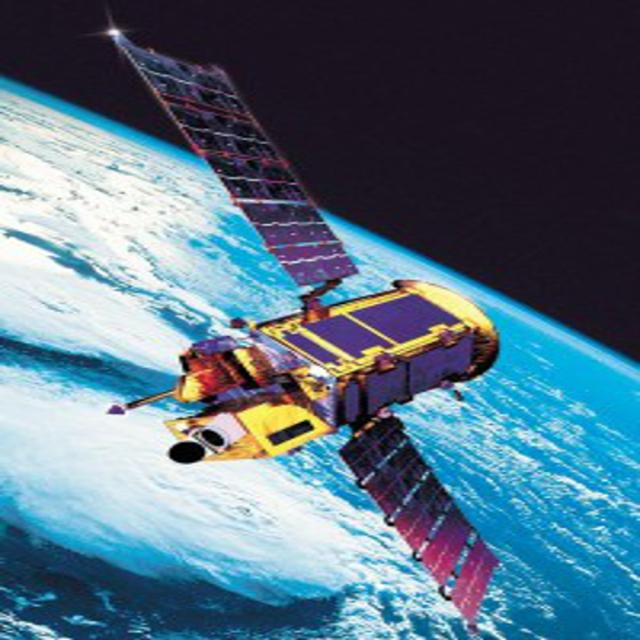satellite: (99, 15, 506, 635)
